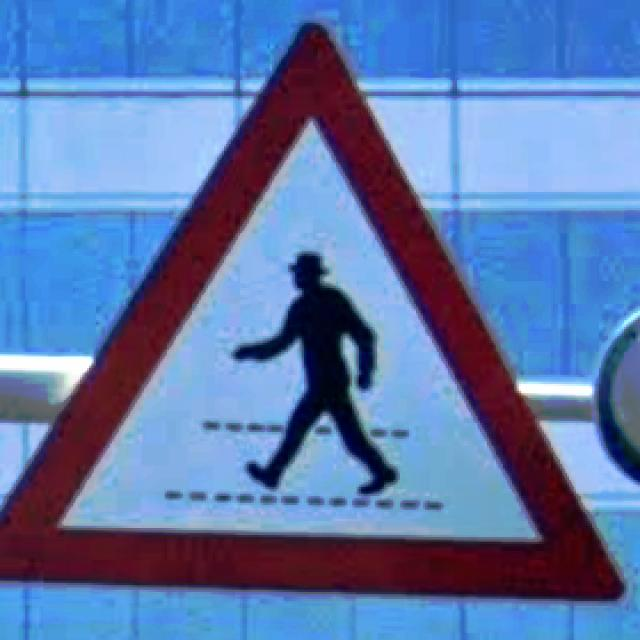pedestriancross: (0, 25, 629, 601)
